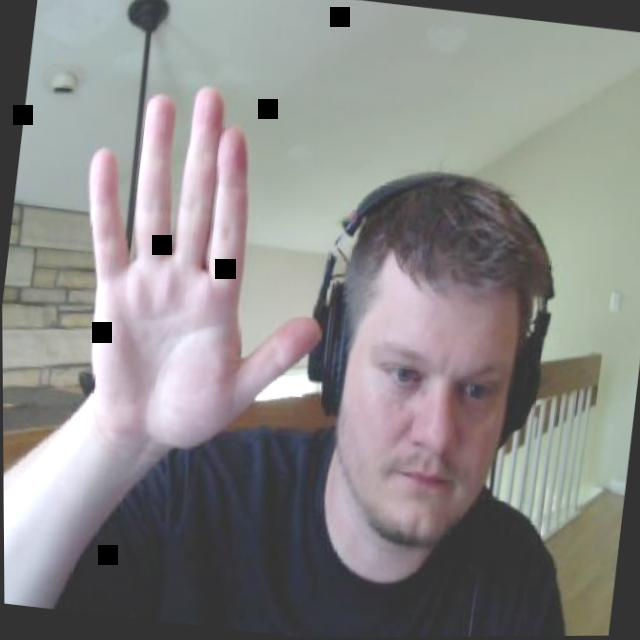Paper: (47, 65, 355, 477)
